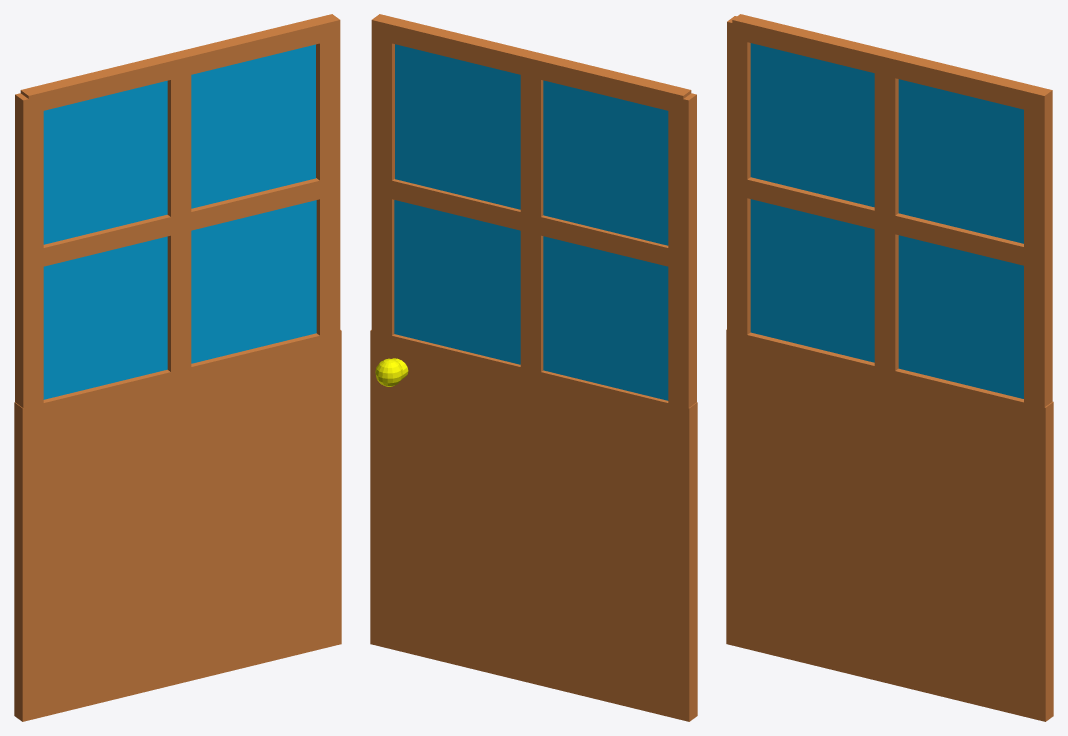
The model's file is tiem-cua-may.glb.
3 views of the same model, side by side, from view 1: azimuth 30°, elevation 25°; view 2: azimuth 150°, elevation 25°; view 3: azimuth 330°, elevation 25° (orthographic).
Visible parts, largest first — view 1: tiem-cua-may; view 2: tiem-cua-may; view 3: tiem-cua-may.
Boxes of the visible parts, <box> form: tiem-cua-may: <box>14,14,341,721</box>; tiem-cua-may: <box>370,14,697,721</box>; tiem-cua-may: <box>726,14,1053,721</box>.
Size of the model in its own units: 7.55 by 14.13 by 0.976.
